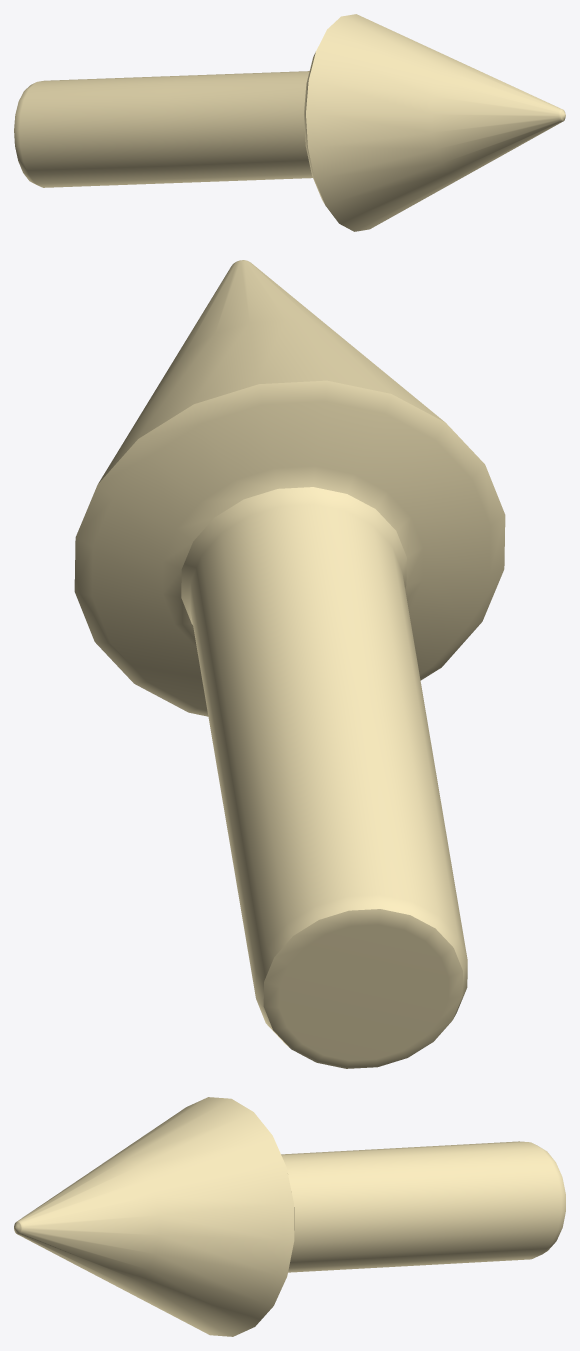
File: rounded_arrow.glb
The picture shows the model from 3 angles, top to bottom: view 1: azimuth 30°, elevation 25°; view 2: azimuth 150°, elevation 25°; view 3: azimuth 270°, elevation 25°; orthographic projection. The views are drawn at different scales.
Visible parts, largest first — view 1: pCone1; view 2: pCone1; view 3: pCone1.
Part boxes in pixels (x1,y1,x2,y2): pCone1: [14, 14, 565, 231]; pCone1: [74, 260, 505, 1068]; pCone1: [14, 1097, 565, 1336].
Bounding box in the file's own units: 0.0332 × 0.0202 × 0.043.
